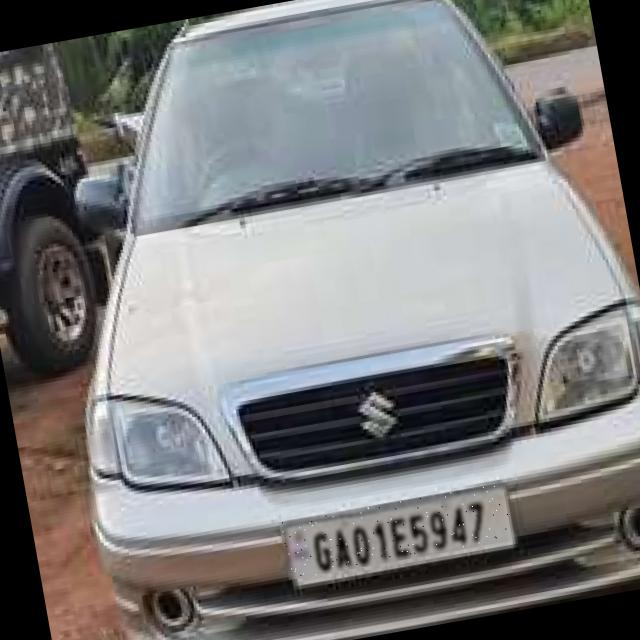Plate: (280, 484, 514, 581)
